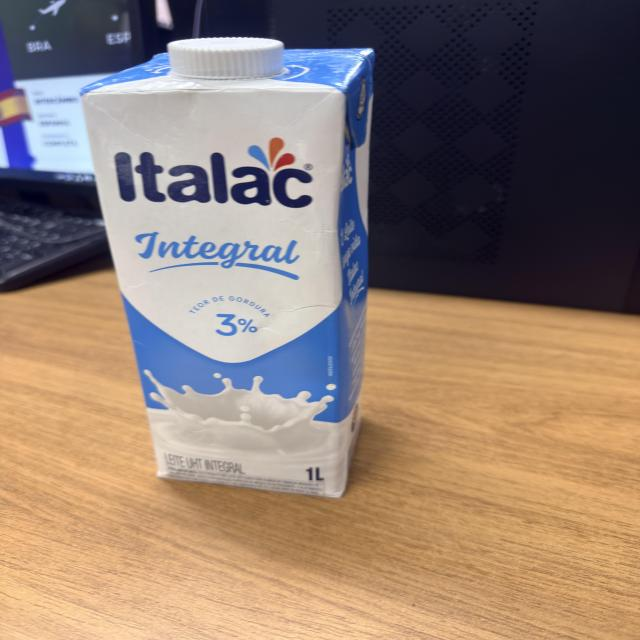Caixa de Leite: (80, 36, 392, 502)
